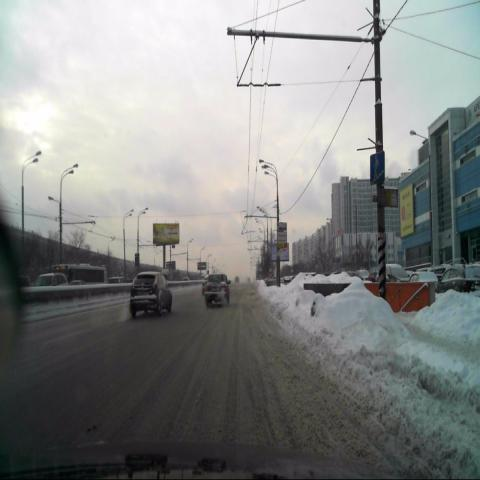6_6: (370, 152, 385, 185)
